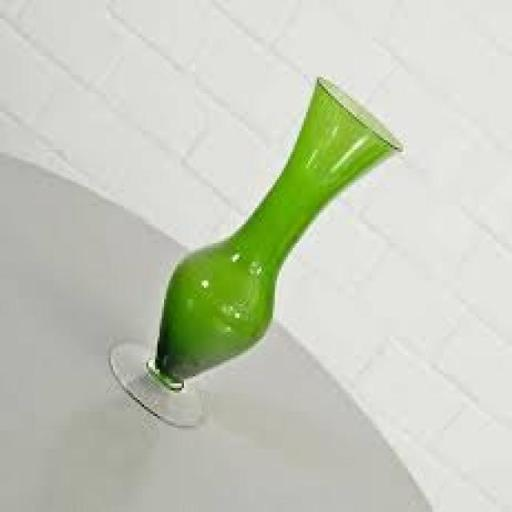glass: (110, 77, 403, 428)
